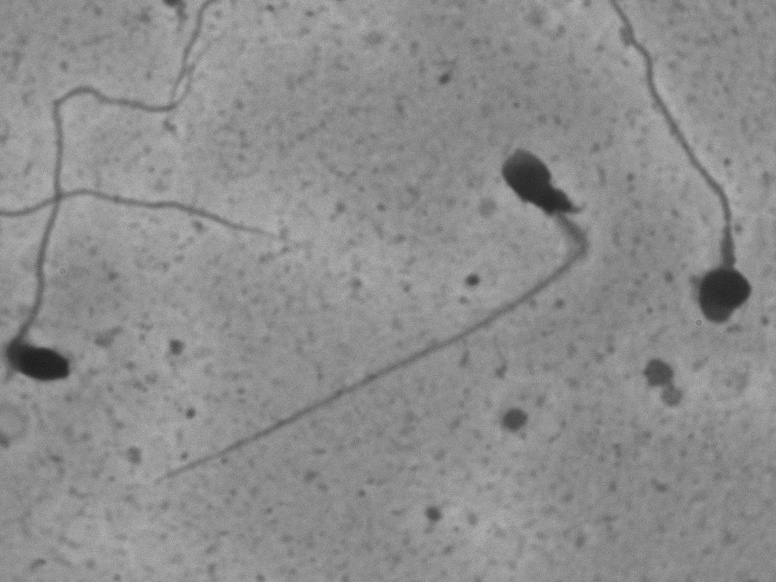Abnormal: (138, 138, 605, 509), (5, 48, 208, 401), (604, 16, 767, 338)
